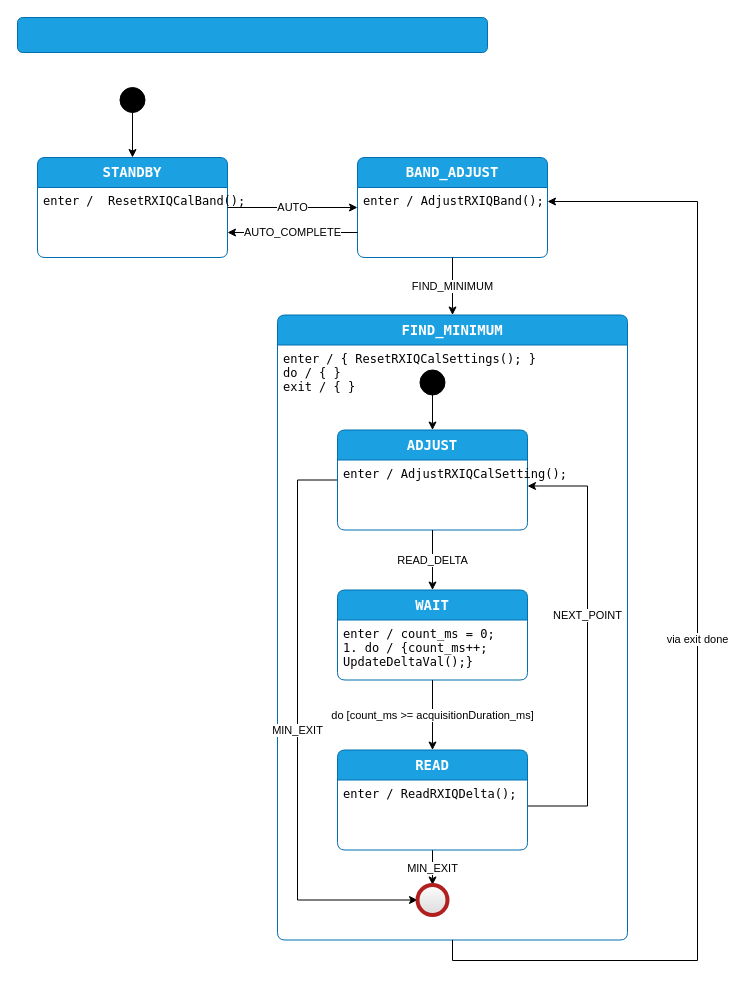
Image size: 746x986. Some labels were removed from this diagram. The centre of each missing label's shape, as x and y in pixels:
"$STATEMACHINE : ReceiveIQCalSm" belongs at point (252, 34).
"exit : done" belongs at point (432, 899).
